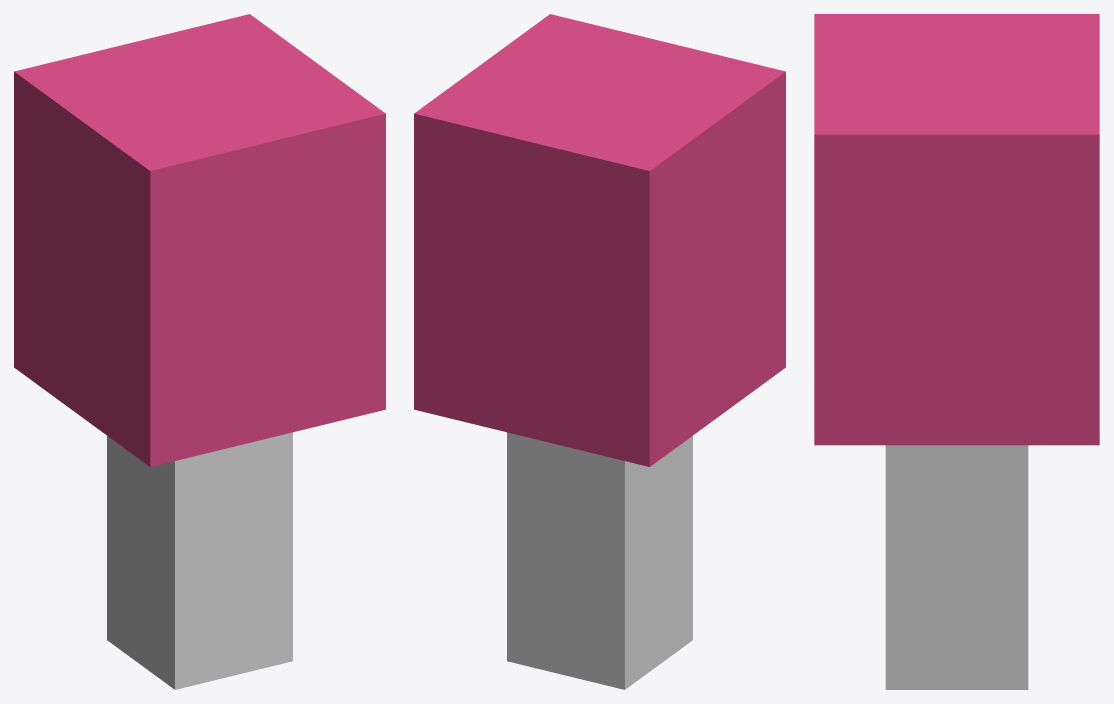
The model's file is dagingMentah.glb.
3 renders of one model, left to right at view 1: azimuth 30°, elevation 25°; view 2: azimuth 150°, elevation 25°; view 3: azimuth 270°, elevation 25°, orthographic. The views are drawn at different scales.
Visible parts, largest first — view 1: Cube.001, Batang; view 2: Cube.001, Batang; view 3: Cube.001, Batang.
Boxes of the visible parts, x1,y1,x2,y2 form: Cube.001: [14, 14, 385, 466]; Batang: [107, 432, 292, 689]; Cube.001: [414, 14, 785, 466]; Batang: [507, 432, 692, 689]; Cube.001: [814, 14, 1099, 445]; Batang: [885, 445, 1028, 689].
Bounding box in the file's own units: 2 × 4.53 × 2.
